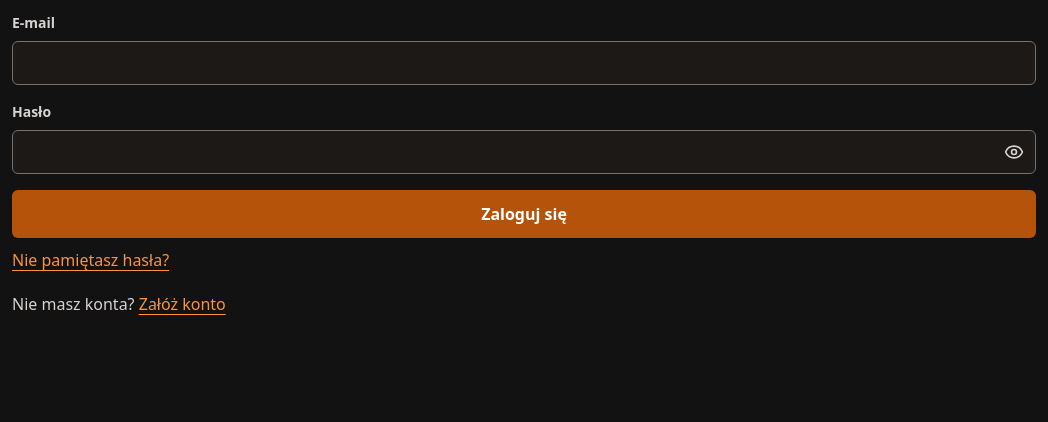
Test: LoginForm › shows one general message for wrong credentials, clears and hides the password, focuses it
Type "ala@example.com" into the field labelled "E-mail".
click(524, 63); type("ala@example.com")  # box [12, 41, 1036, 85]
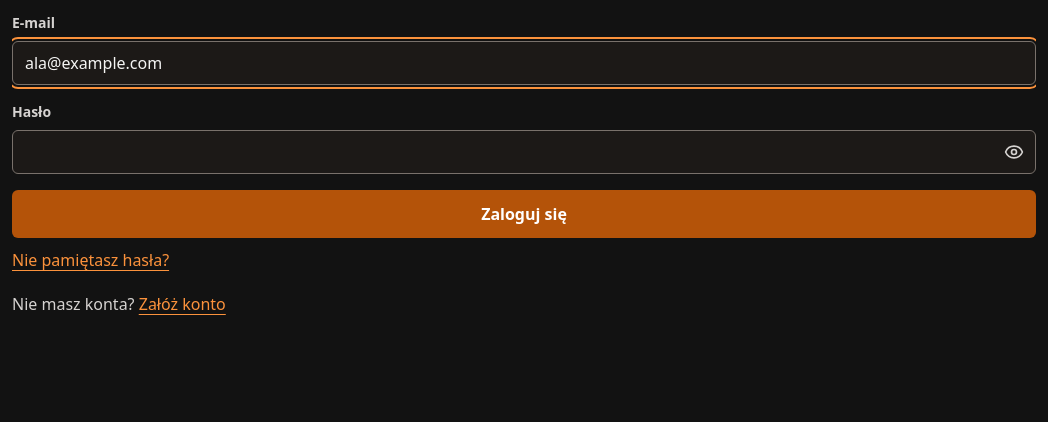
Type "secret123" into the password field labelled "Hasło".
click(524, 152); type("secret123")  # box [12, 130, 1036, 174]
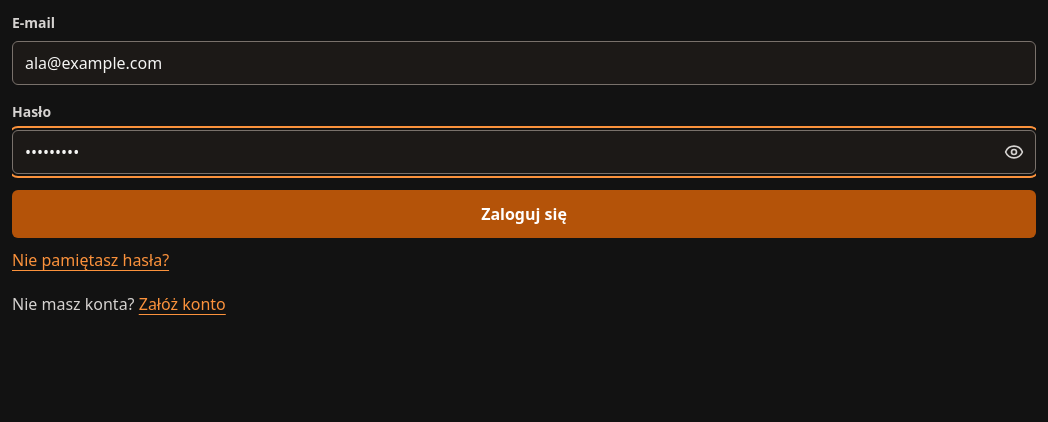
Click the button named "Pokaż hasło".
click(1014, 152)  # box [992, 130, 1036, 174]
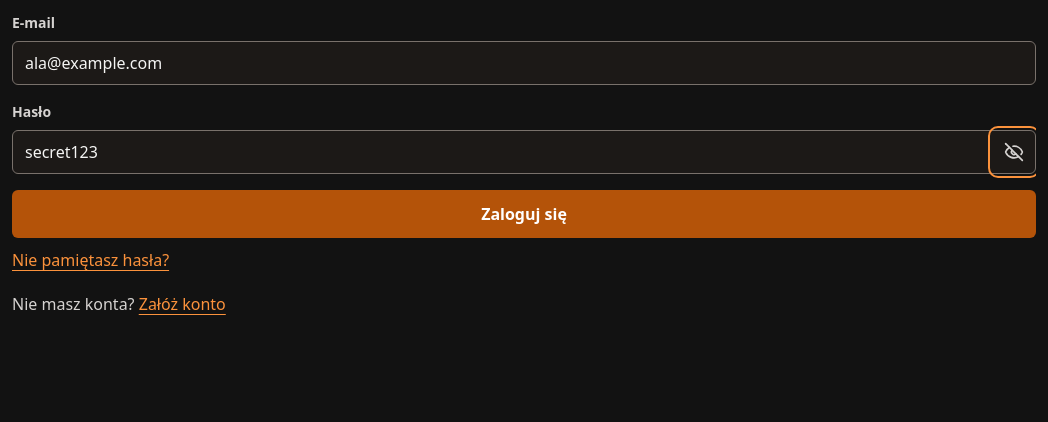
Click the button "Zaloguj się".
click(524, 214)  # box [12, 190, 1036, 238]
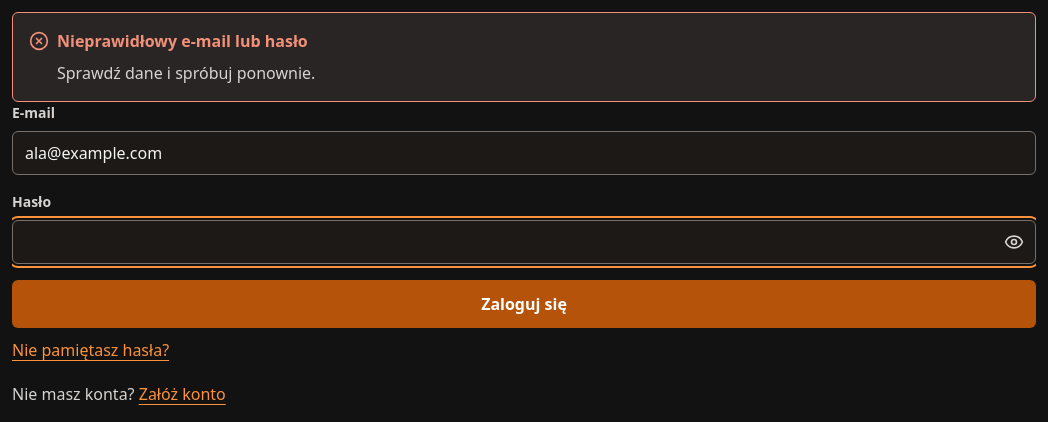
Expected: the button "Zaloguj się" is enabled, [12, 280, 1036, 328]
Expected: the element with test id "login-error" shows "Nieprawidłowy e-mail lub hasło", [57, 30, 308, 52]
Expected: the password field labelled "Hasło" is empty, [12, 220, 1036, 264]
